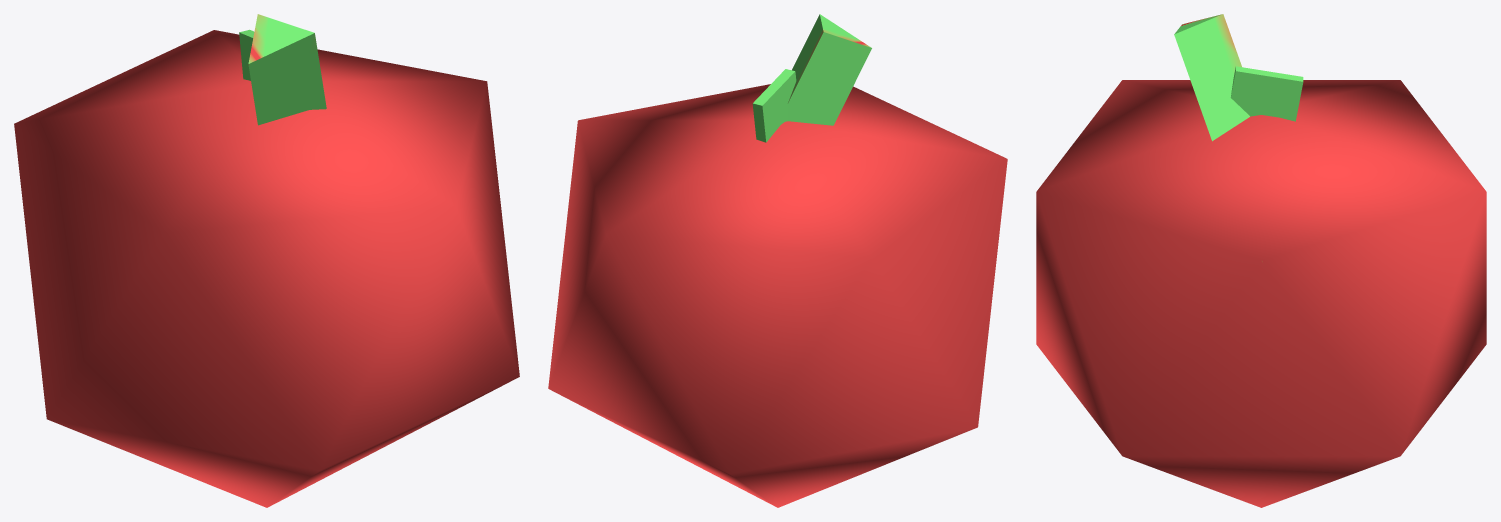
File: fruit.fbx
3 renders of one model, left to right at view 1: azimuth 30°, elevation 25°; view 2: azimuth 150°, elevation 25°; view 3: azimuth 270°, elevation 25°, orthographic. The views are drawn at different scales.
Parts seen in each view (by area): view 1: Cube.010; view 2: Cube.010; view 3: Cube.010.
Part boxes in pixels (x1,y1,x2,y2): Cube.010: (14, 14, 519, 507); Cube.010: (548, 14, 1007, 507); Cube.010: (1036, 14, 1486, 507).
Bounding box in the file's own units: 40.08 × 44.89 × 38.12.
Materials: 1 (1 with a texture image).
